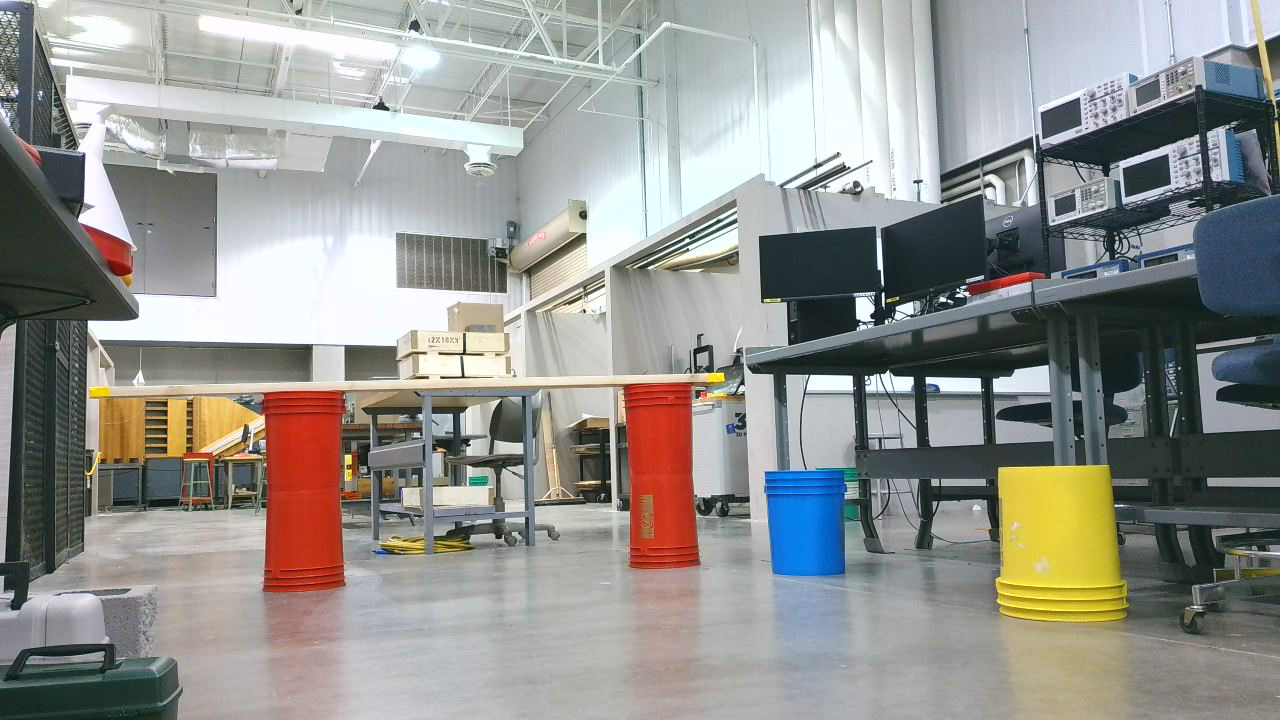blue_bucket: (767, 472, 855, 584)
red_bucket_arch: (261, 375, 709, 601)
yellow_bucket: (992, 463, 1140, 633)
